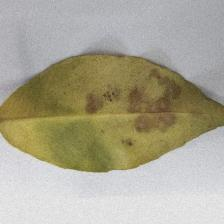black spot: (77, 78, 193, 146)
